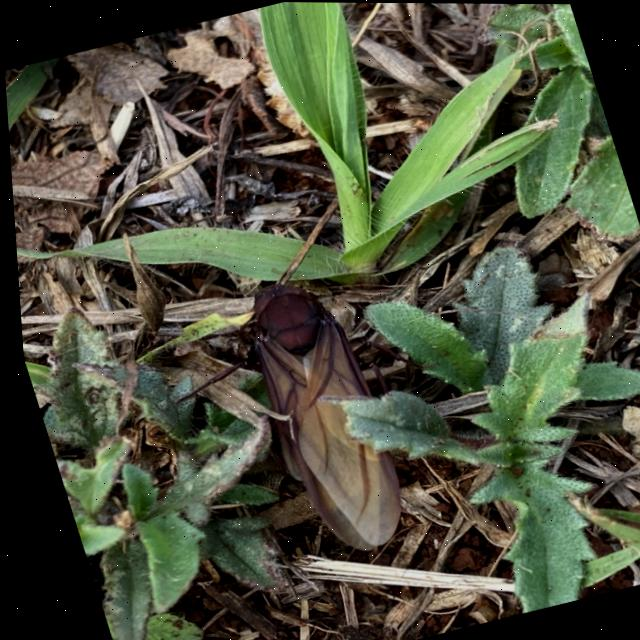Alive-Female-Alate: (137, 247, 487, 586)
